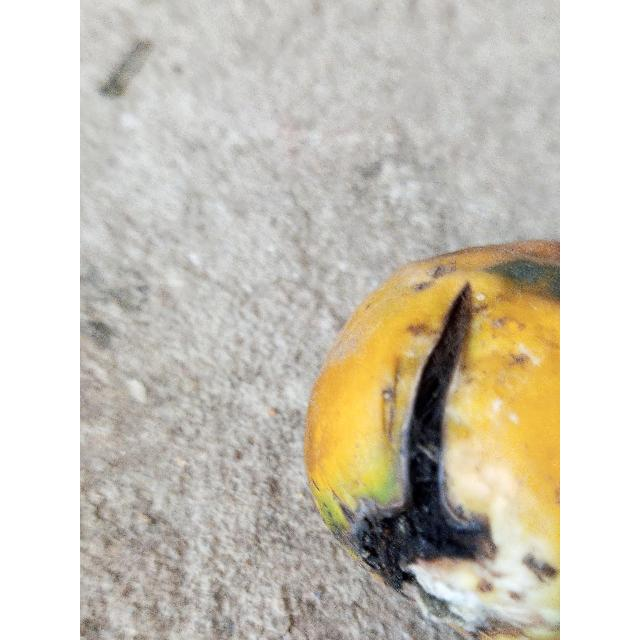damaged: (304, 240, 560, 640)
